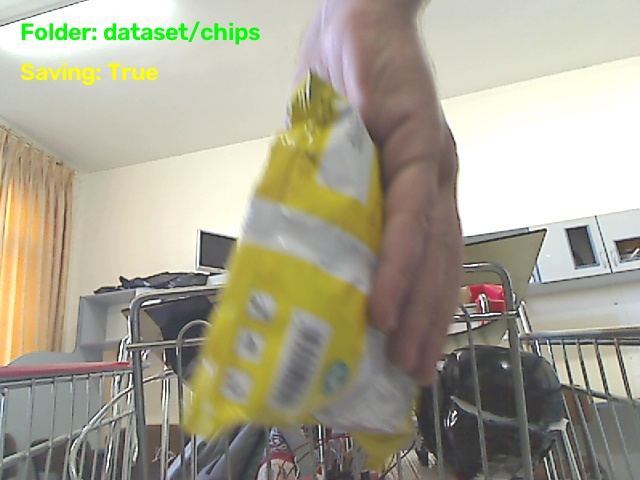chips: (186, 74, 416, 464)
